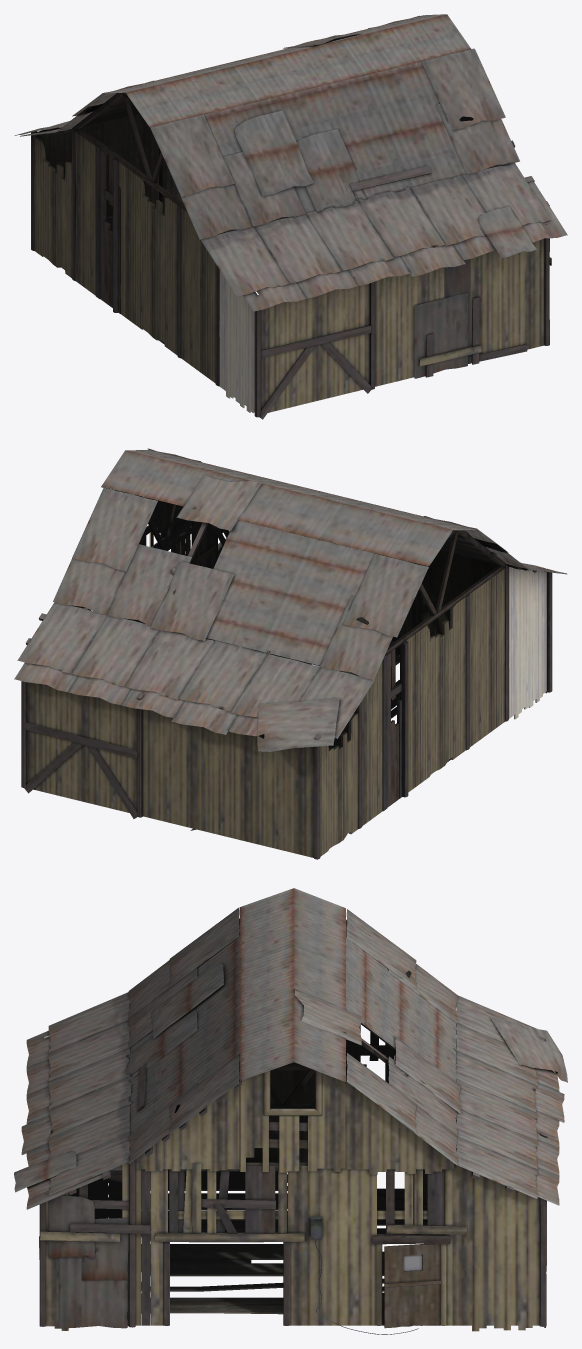
Rendered from oldBarn.fbx.
The picture shows the model from 3 angles, top to bottom: view 1: azimuth 30°, elevation 25°; view 2: azimuth 150°, elevation 25°; view 3: azimuth 270°, elevation 25°; orthographic projection. The views are drawn at different scales.
Parts seen in each view (by area): view 1: Object002; view 2: Object002; view 3: Object002.
Boxes of the visible parts, x1,y1,x2,y2 form: Object002: [14, 14, 567, 419]; Object002: [14, 448, 567, 859]; Object002: [14, 888, 567, 1334].
Bounding box in the file's own units: 546 × 401 × 724.
1 material, 1 textured.
